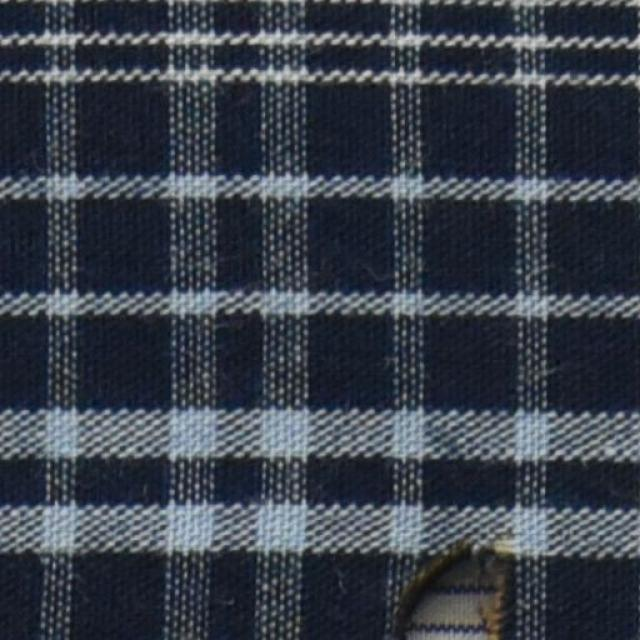Hole: (408, 568, 483, 639)
Stain: (454, 546, 512, 639)
